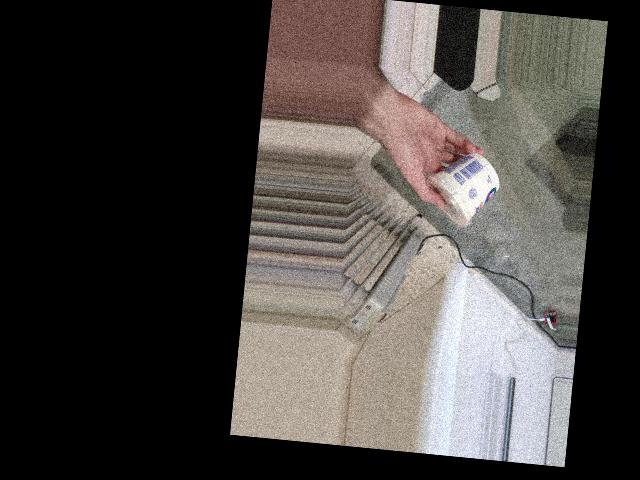cotage: (420, 144, 503, 232)
